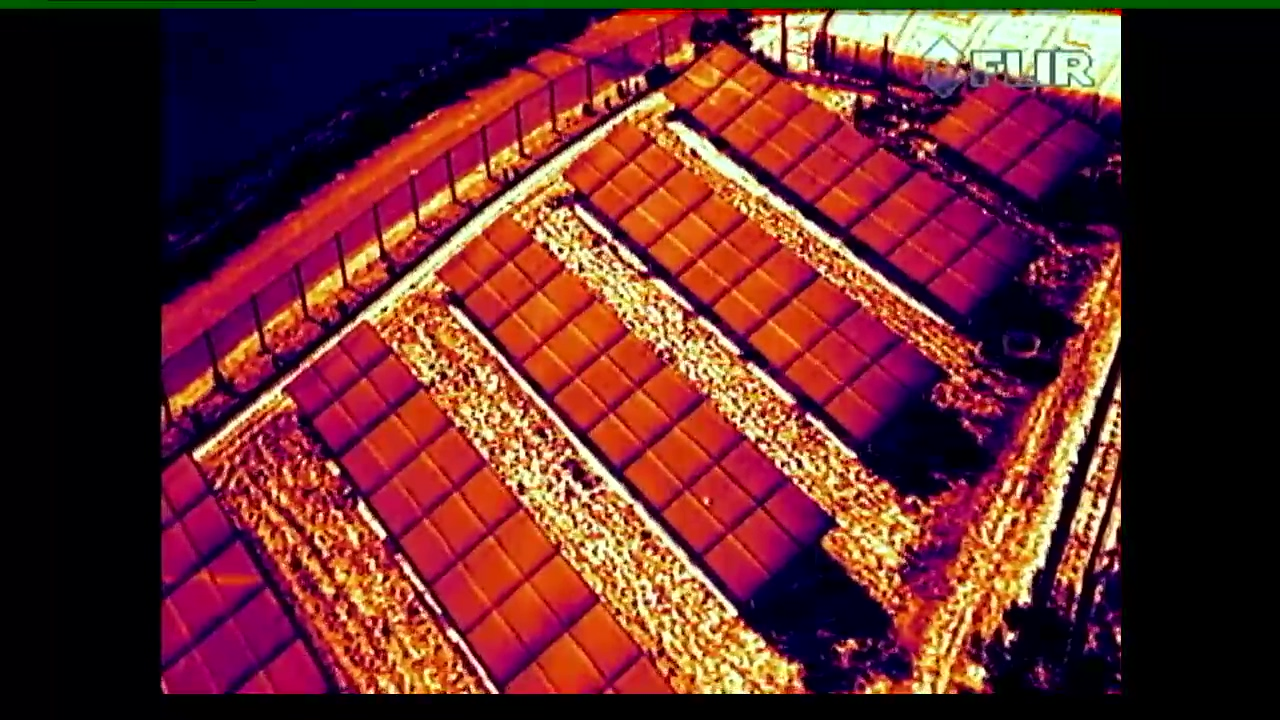hotspot: (657, 444, 791, 557)
